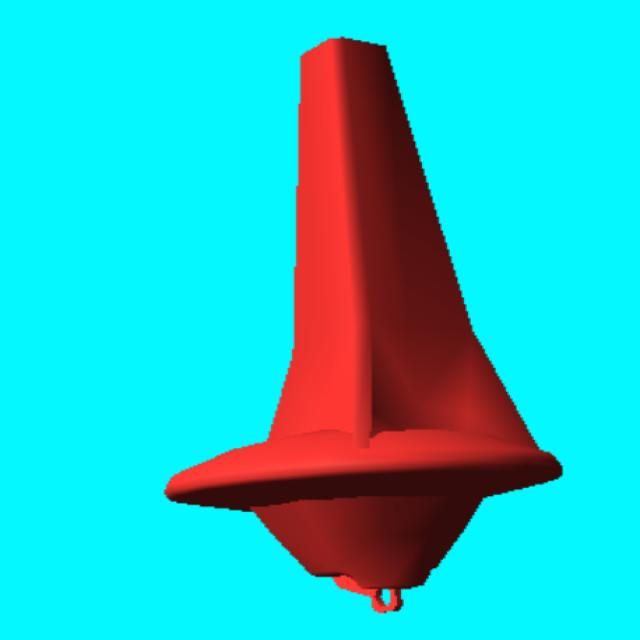RedBuoy: (163, 38, 565, 615)
